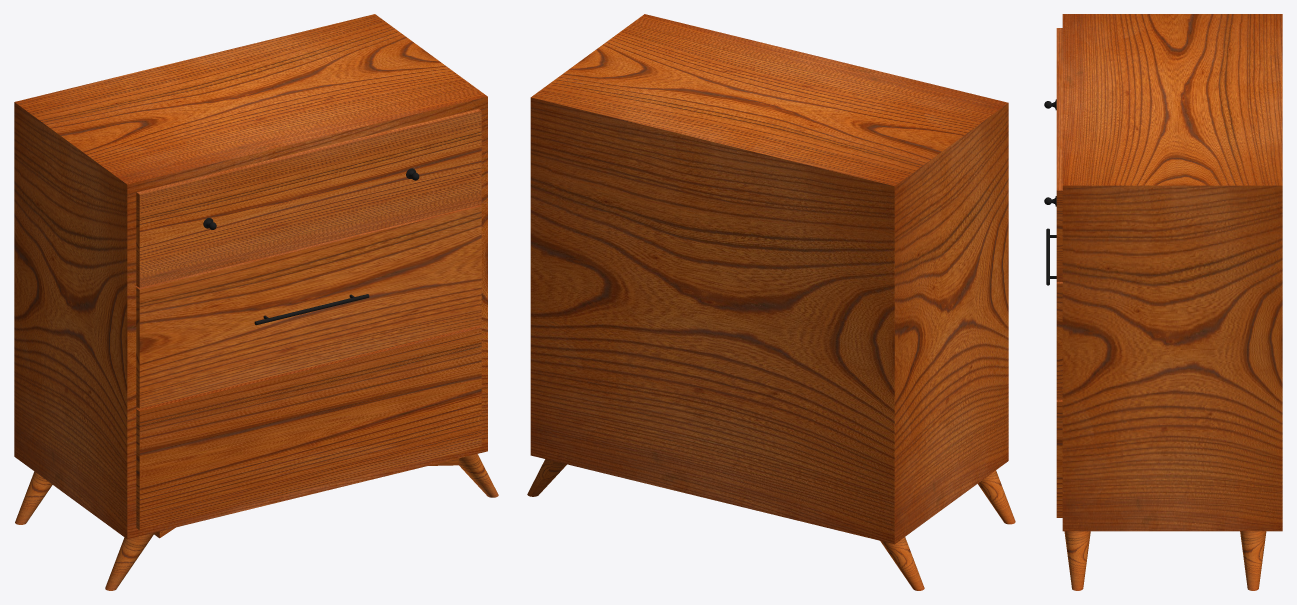
File: Akepadresser.glb
3 views of the same model, side by side, from view 1: azimuth 30°, elevation 25°; view 2: azimuth 150°, elevation 25°; view 3: azimuth 270°, elevation 25° (orthographic). The views are drawn at different scales.
Visible parts, largest first — view 1: Akepa dresser_box, Akepa dresser-Cuboard-03, Akepa dresser-Cuboard-02, Akepa dresser-Cuboard-01, Akepa dresser-piller01, Akepa dresser-piller02, Akepa dresser-piller03; view 2: Akepa dresser_box, Akepa dresser-piller02, Akepa dresser-piller01, Akepa dresser-piller04; view 3: Akepa dresser_box, Akepa dresser-Cuboard-01, Akepa dresser-piller03, Akepa dresser-piller04, Akepa dresser-Cuboard-03, Akepa dresser-Cuboard-02.
Part boxes in pixels (bbox=[...]): Akepa dresser_box: bbox=[14, 14, 487, 539]; Akepa dresser-Cuboard-03: bbox=[136, 326, 481, 530]; Akepa dresser-Cuboard-02: bbox=[136, 205, 481, 408]; Akepa dresser-Cuboard-01: bbox=[136, 108, 481, 287]; Akepa dresser-piller01: bbox=[105, 532, 154, 590]; Akepa dresser-piller02: bbox=[15, 471, 52, 524]; Akepa dresser-piller03: bbox=[459, 454, 498, 497]; Akepa dresser_box: bbox=[530, 14, 1008, 544]; Akepa dresser-piller02: bbox=[880, 537, 924, 590]; Akepa dresser-piller01: bbox=[978, 470, 1015, 524]; Akepa dresser-piller04: bbox=[527, 459, 566, 496]; Akepa dresser_box: bbox=[1062, 14, 1282, 531]; Akepa dresser-Cuboard-01: bbox=[1056, 28, 1062, 281]; Akepa dresser-piller03: bbox=[1064, 531, 1090, 590]; Akepa dresser-piller04: bbox=[1240, 531, 1266, 590]; Akepa dresser-Cuboard-03: bbox=[1056, 399, 1062, 517]; Akepa dresser-Cuboard-02: bbox=[1056, 282, 1062, 399].
Bounding box in the file's own units: 0.9022 × 0.8959 × 0.4876.
2 materials, 1 textured.
